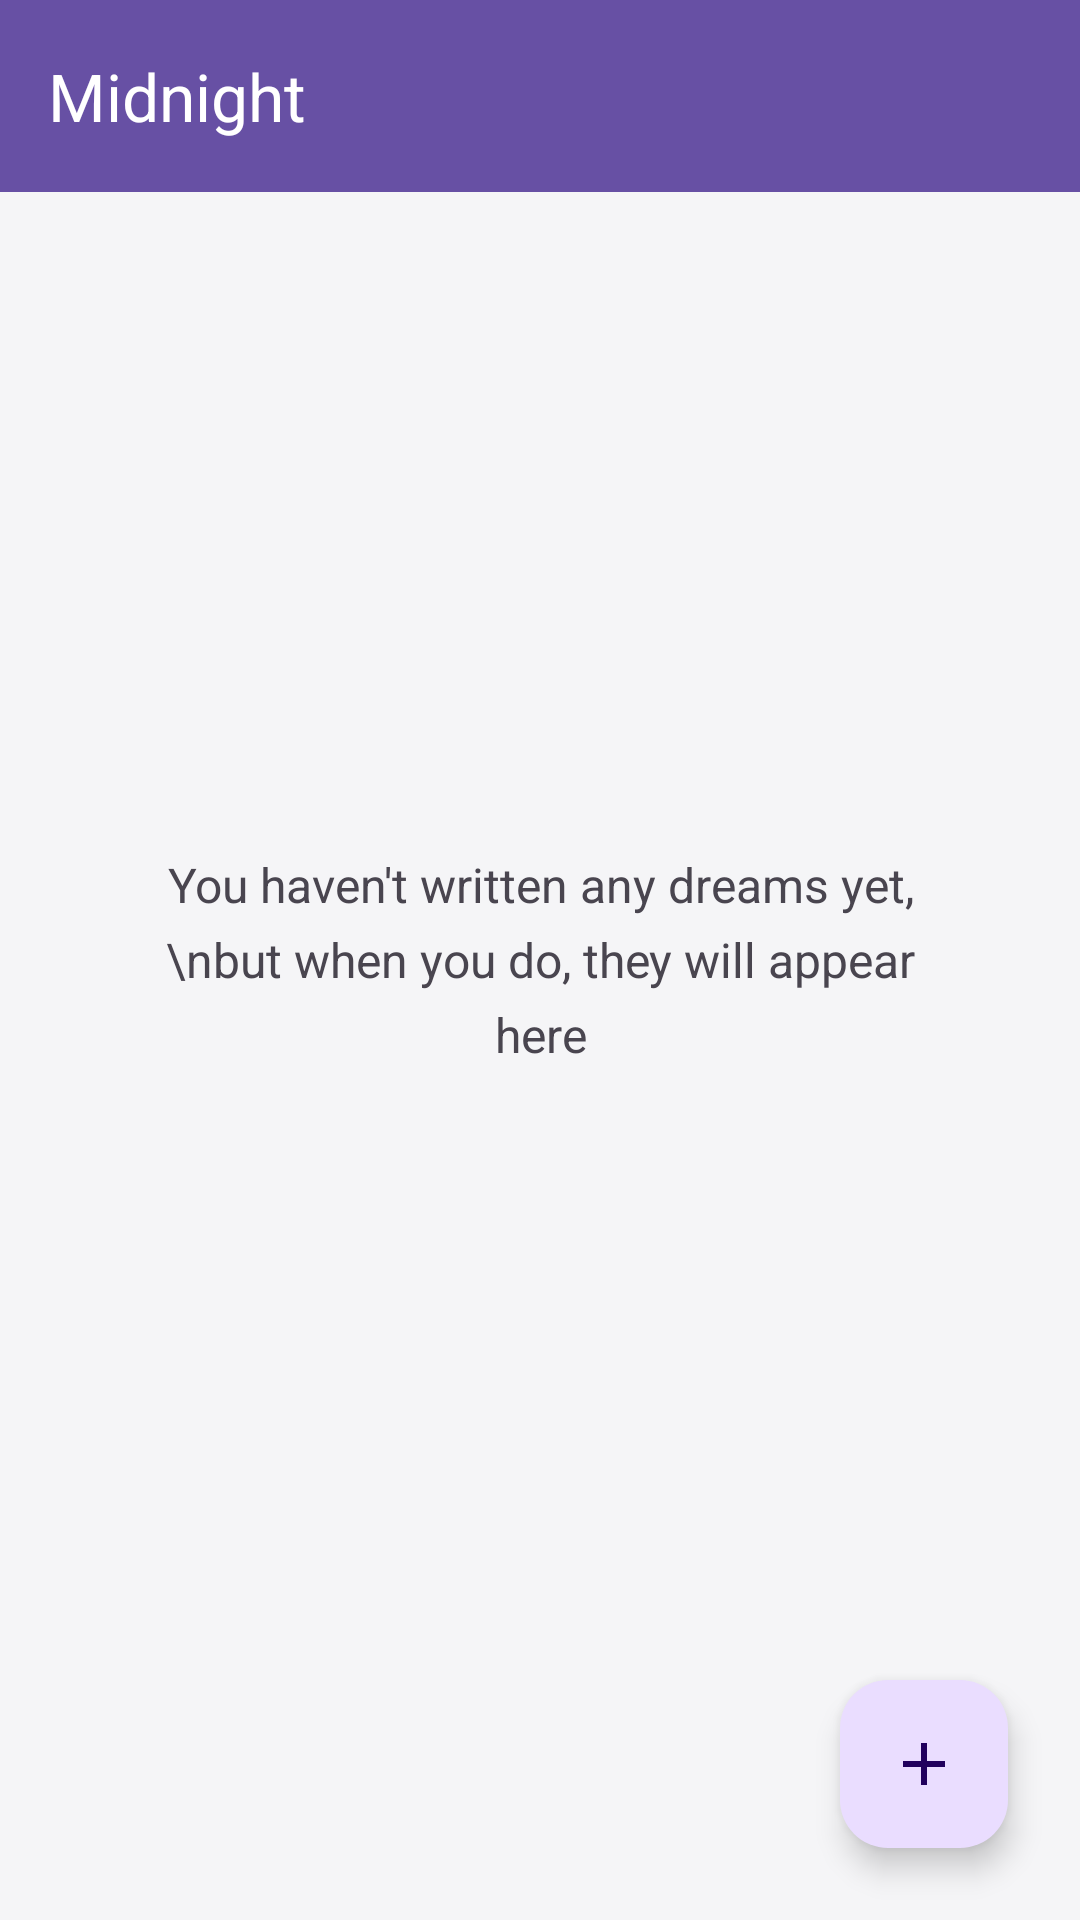

Icon click points for this 1080px x 1920px phone screenshot, format (x=x, y=y):
Add New Dream: (x=924, y=1764)
